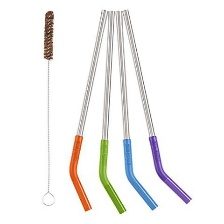drinking_straw: (118, 7, 195, 207), (63, 6, 110, 215)
